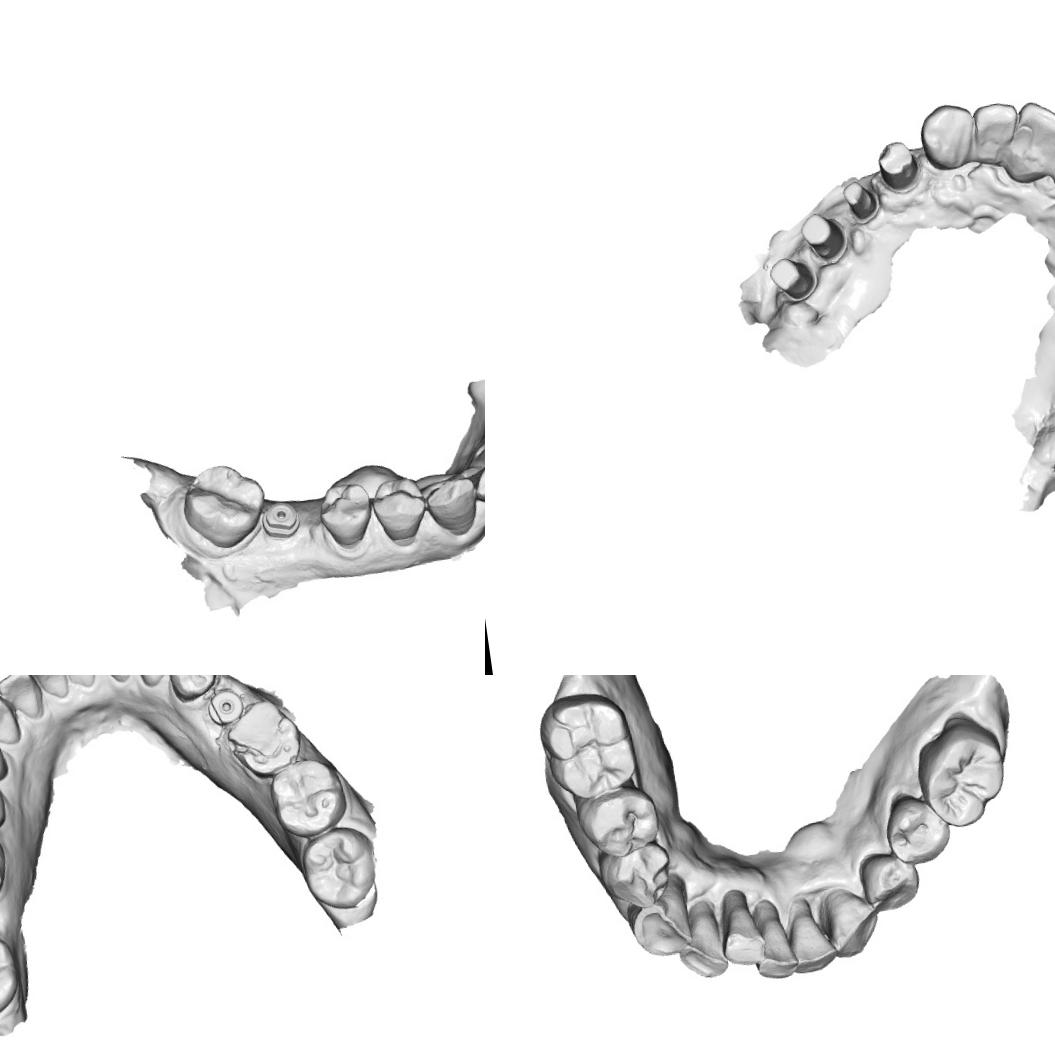abutment: (871, 137, 925, 196), (796, 207, 850, 266), (766, 252, 819, 304), (838, 176, 882, 228)
canine: (628, 884, 696, 964), (818, 880, 883, 962), (915, 99, 980, 175), (422, 472, 483, 541), (0, 690, 25, 752), (128, 675, 178, 690)
implant: (257, 495, 305, 543), (202, 686, 248, 731)
incisor: (674, 908, 734, 986), (1007, 93, 1055, 177), (784, 900, 836, 977), (748, 910, 800, 982), (966, 98, 1023, 162), (718, 894, 765, 969), (0, 675, 45, 724), (24, 675, 71, 705), (464, 455, 485, 507), (57, 675, 101, 691), (90, 675, 138, 688)
molar: (908, 709, 1014, 834), (532, 686, 639, 804), (176, 457, 273, 556), (293, 824, 383, 916), (219, 692, 308, 785), (265, 750, 354, 842), (0, 926, 29, 1026)
premolar: (578, 785, 666, 863), (880, 790, 958, 871), (596, 840, 678, 914), (312, 476, 378, 553), (365, 472, 432, 546), (856, 846, 925, 916), (163, 675, 223, 705)
